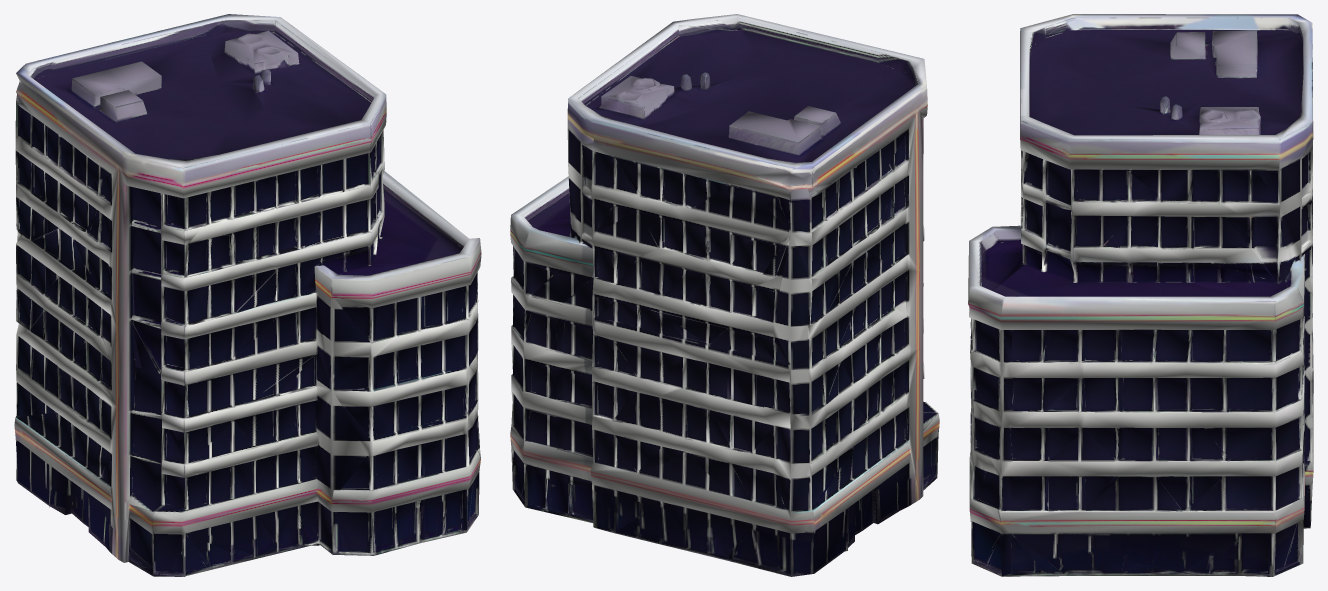
File: building_office.glb
3 views of the same model, side by side, from view 1: azimuth 30°, elevation 25°; view 2: azimuth 150°, elevation 25°; view 3: azimuth 270°, elevation 25° (orthographic).
Visible parts, largest first — view 1: Mesh_0; view 2: Mesh_0; view 3: Mesh_0.
Boxes of the visible parts, x1,y1,x2,y2 form: Mesh_0: (14,14,481,576); Mesh_0: (510,14,939,576); Mesh_0: (968,14,1313,576).
Bounding box in the file's own units: 1.53 × 1.9 × 1.44.
1 material, 1 textured.
